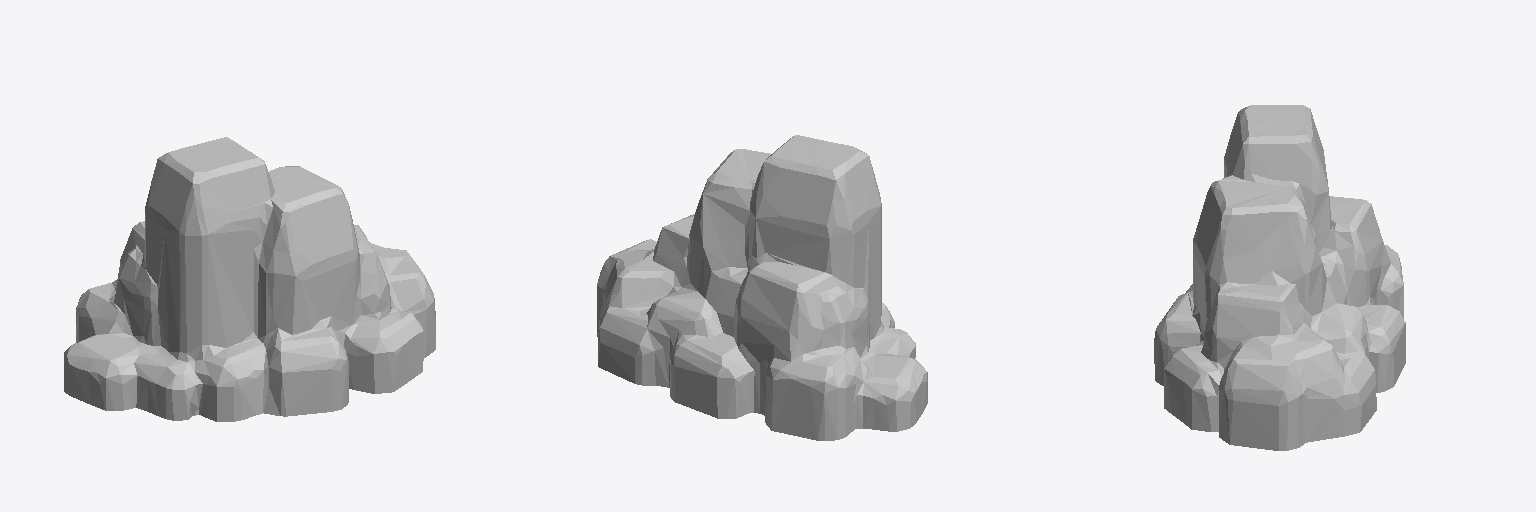
Rendered from rock_cube.obj.
3 renders of one model, left to right at view 1: azimuth 30°, elevation 25°; view 2: azimuth 150°, elevation 25°; view 3: azimuth 270°, elevation 25°, orthographic.
Visible parts, largest first — view 1: rock_cube; view 2: rock_cube; view 3: rock_cube.
Boxes of the visible parts, x1=… form: rock_cube: x1=64, y1=137, x2=435, y2=421; rock_cube: x1=597, y1=135, x2=927, y2=440; rock_cube: x1=1154, y1=105, x2=1405, y2=450.
Bounding box in the file's own units: 2.51 × 1.62 × 1.63.